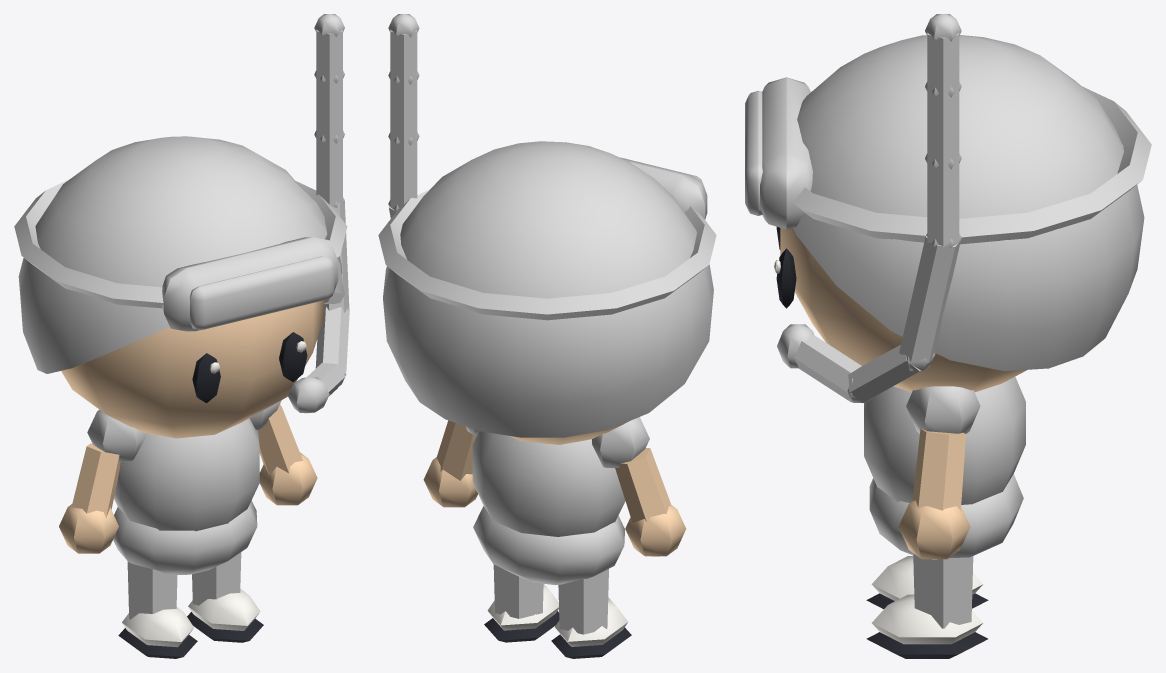
File: guyh_goggle.fbx
The picture shows the model from 3 angles, left to right: view 1: azimuth 30°, elevation 25°; view 2: azimuth 150°, elevation 25°; view 3: azimuth 270°, elevation 25°; orthographic projection. The views are drawn at different scales.
Visible parts, largest first — view 1: guyh_goggle; view 2: guyh_goggle; view 3: guyh_goggle.
Boxes of the visible parts, bbox=[...] form: guyh_goggle: bbox=[14, 14, 349, 658]; guyh_goggle: bbox=[378, 14, 716, 658]; guyh_goggle: bbox=[745, 14, 1151, 658].
Bounding box in the file's own units: 0.4731 × 0.8807 × 0.4618.
